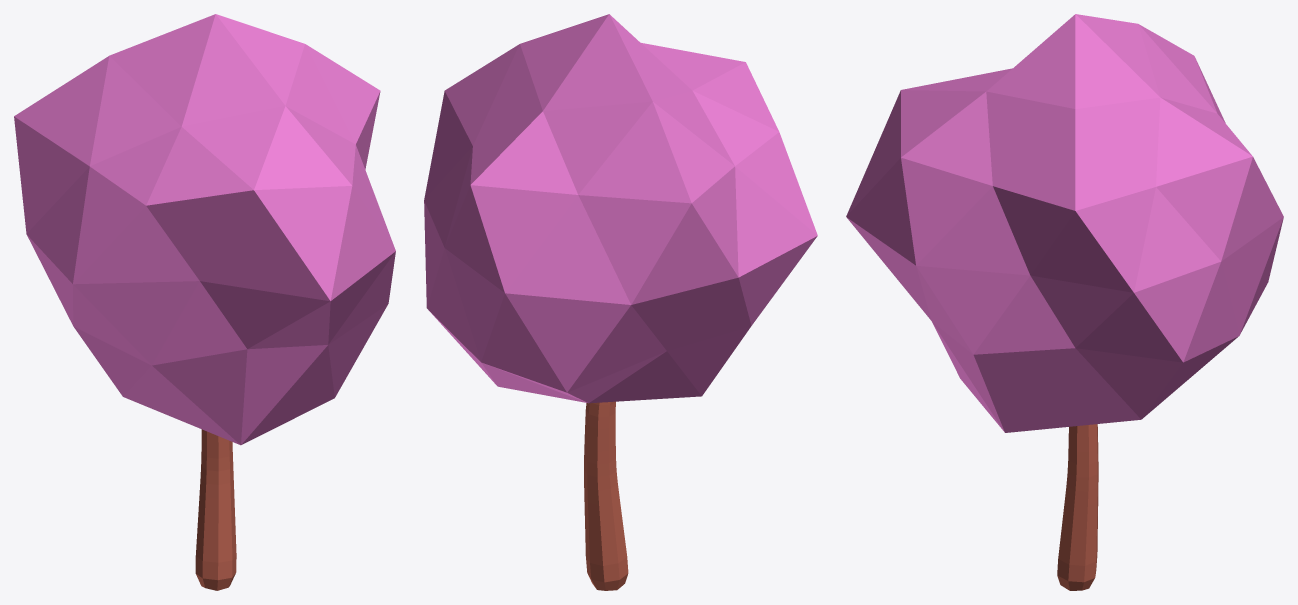
File: sakura2.fbx
The picture shows the model from 3 angles, left to right: view 1: azimuth 30°, elevation 25°; view 2: azimuth 150°, elevation 25°; view 3: azimuth 270°, elevation 25°; orthographic projection.
Parts seen in each view (by area): view 1: sakura2; view 2: sakura2; view 3: sakura2.
Part boxes in pixels (<box>): sakura2: <box>14,14,395,590</box>; sakura2: <box>424,14,817,590</box>; sakura2: <box>846,14,1283,590</box>.
Size of the model in its own units: 588 by 951 by 656.
